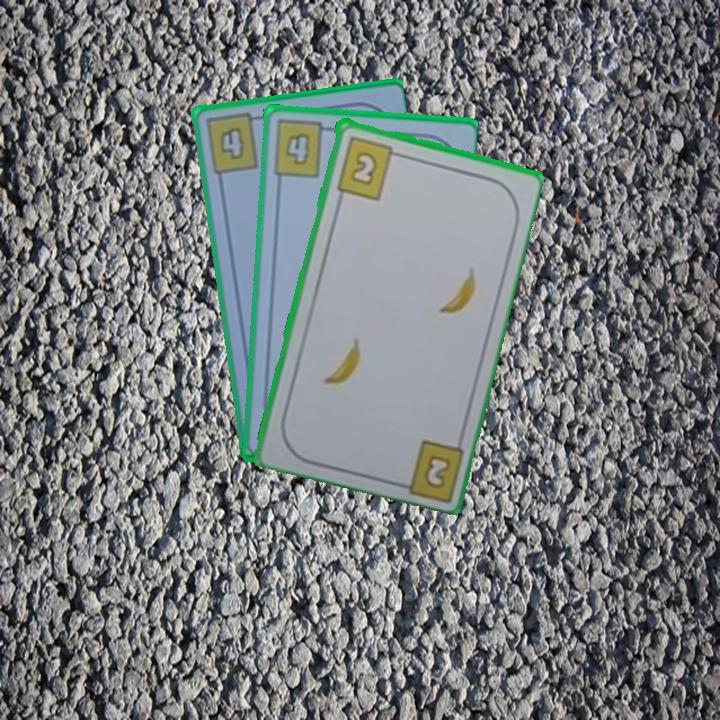2b: (332, 132, 404, 202), (423, 454, 450, 488)
4b: (201, 110, 265, 177), (269, 117, 336, 180)
